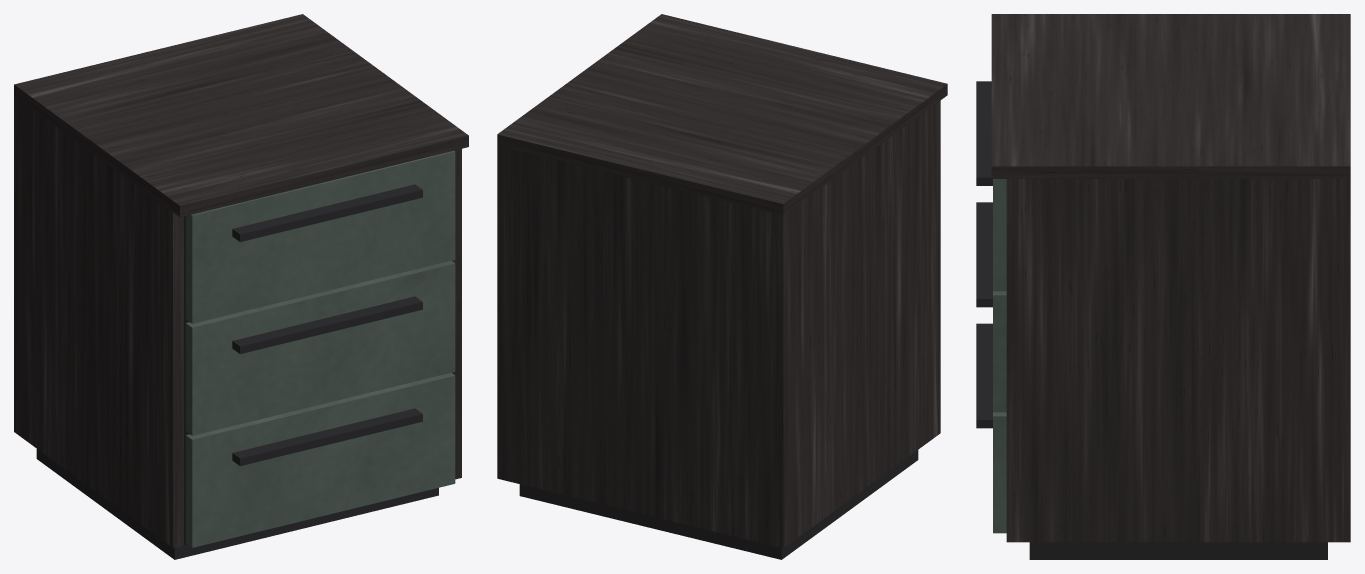
The model's file is G-933-placeholder.glb.
3 views of the same model, side by side, from view 1: azimuth 30°, elevation 25°; view 2: azimuth 150°, elevation 25°; view 3: azimuth 270°, elevation 25° (orthographic). The views are drawn at different scales.
Visible parts, largest first — view 1: Модуль стола с тремя ящиками G-933; view 2: Модуль стола с тремя ящиками G-933; view 3: Модуль стола с тремя ящиками G-933.
Boxes of the visible parts, x1,y1,x2,y2 form: Модуль стола с тремя ящиками G-933: (14,14,468,559); Модуль стола с тремя ящиками G-933: (497,14,947,559); Модуль стола с тремя ящиками G-933: (976,14,1350,559).
Size of the model in its own units: 0.474 by 0.58 by 0.492.
4 materials, 2 textured.
